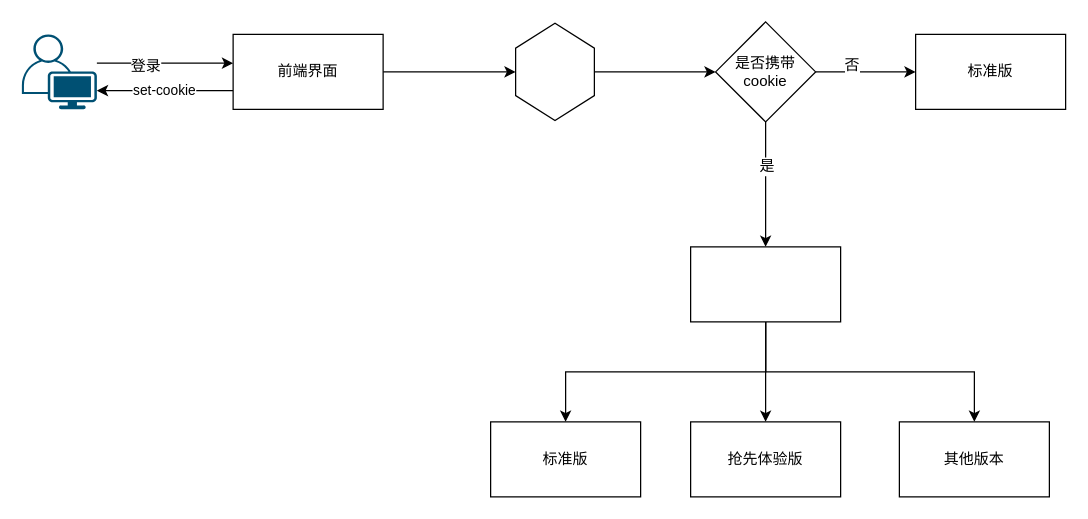
Some shapes in this 1088 by 519 pixel diagram are drawn without their labels. Here are the shapes that lost their labels. From the top down, the box of each, then its label:
(21, 34, 96, 109): 用户
(514, 22, 594, 121): Nginx
(689, 246, 841, 322): 判断 cookie: appMode
